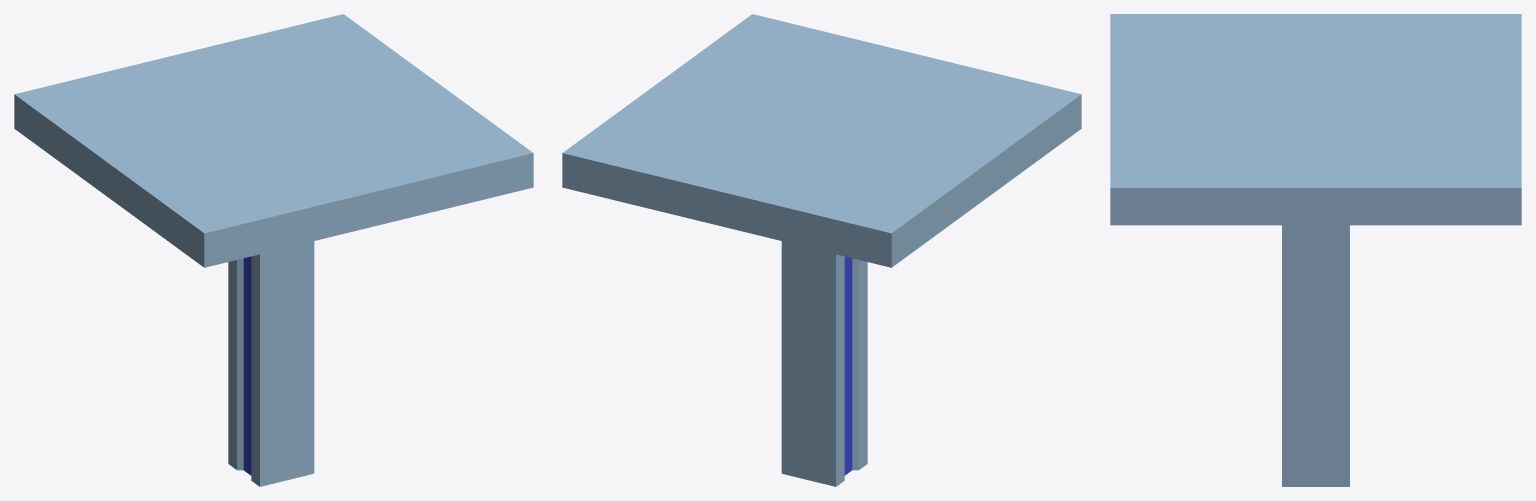
File: EspacioRedSocialColumnaInteriorBajoNS.gltf
3 renders of one model, left to right at view 1: azimuth 30°, elevation 25°; view 2: azimuth 150°, elevation 25°; view 3: azimuth 270°, elevation 25°, orthographic. The views are drawn at different scales.
Visible parts, largest first — view 1: Objeto Poligonal.6; view 2: Objeto Poligonal.6; view 3: Objeto Poligonal.6.
Boxes of the visible parts, box(x1,y1,x2,y2) form: Objeto Poligonal.6: box(14, 14, 533, 486); Objeto Poligonal.6: box(562, 14, 1081, 486); Objeto Poligonal.6: box(1110, 14, 1521, 486).
Size of the model in its own units: 2 by 2 by 2.
Materials: 1 (1 with a texture image).
